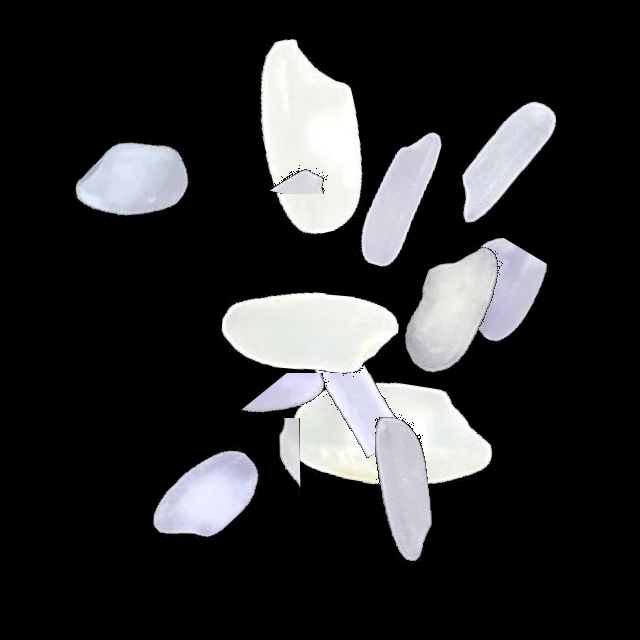Broken: (221, 291, 471, 458), (356, 238, 606, 399), (182, 373, 432, 490), (164, 95, 414, 194), (127, 418, 377, 513), (118, 128, 368, 217)
Full: (269, 308, 519, 558), (9, 57, 259, 307), (326, 184, 576, 434), (382, 35, 632, 285), (187, 8, 437, 258), (277, 362, 527, 612), (275, 71, 525, 321), (183, 204, 433, 454), (80, 373, 330, 623)
